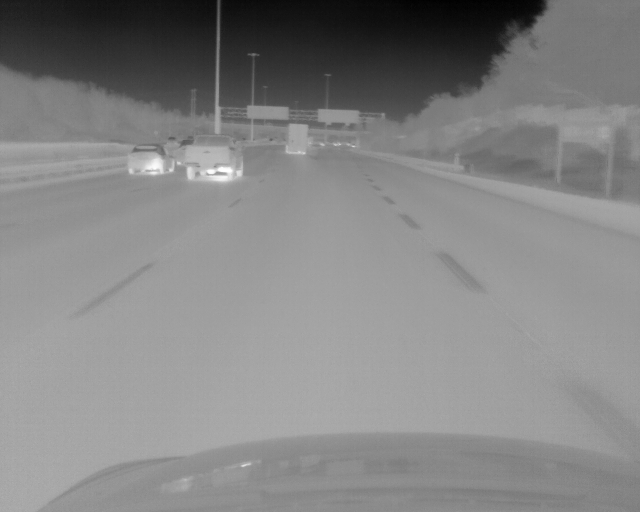car: (184, 135, 244, 181), (127, 144, 175, 175), (286, 123, 308, 156)
